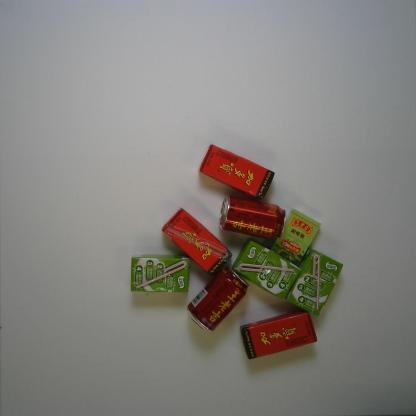Candy: (270, 207, 321, 266)
Drink: (160, 206, 233, 278), (198, 143, 276, 200), (186, 265, 250, 333), (239, 310, 319, 362), (218, 194, 287, 241)
Milk: (232, 238, 302, 301), (286, 247, 344, 318), (130, 253, 191, 293)
